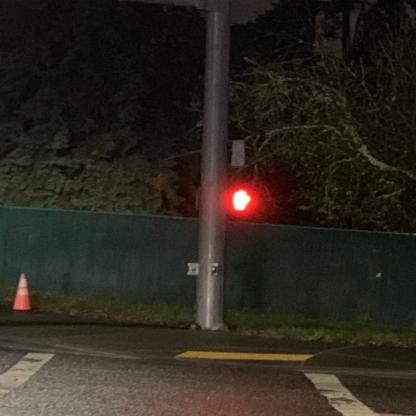Don-t Walk: (231, 188, 253, 213)
